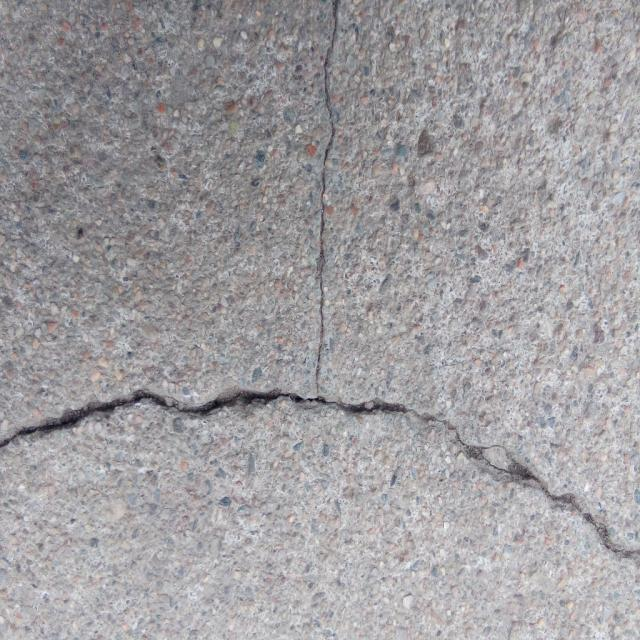cracks: (5, 3, 640, 559)
